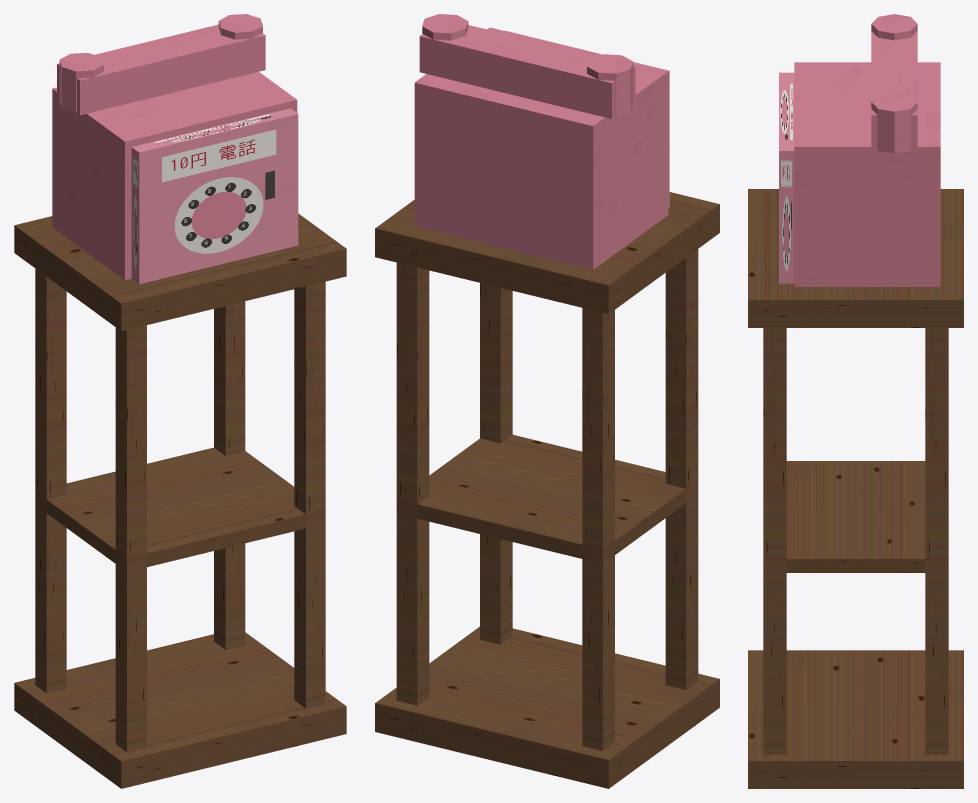
File: pinkphone.glb
The picture shows the model from 3 angles, left to right: view 1: azimuth 30°, elevation 25°; view 2: azimuth 150°, elevation 25°; view 3: azimuth 270°, elevation 25°; orthographic projection. The views are drawn at different scales.
Visible parts, largest first — view 1: pinkphone; view 2: pinkphone; view 3: pinkphone.
Part boxes in pixels (bbox=[...]): pinkphone: bbox=[14, 14, 346, 788]; pinkphone: bbox=[375, 14, 719, 788]; pinkphone: bbox=[748, 14, 963, 788].
Bounding box in the file's own units: 0.34 × 0.96 × 0.28.
1 material, 1 textured.
